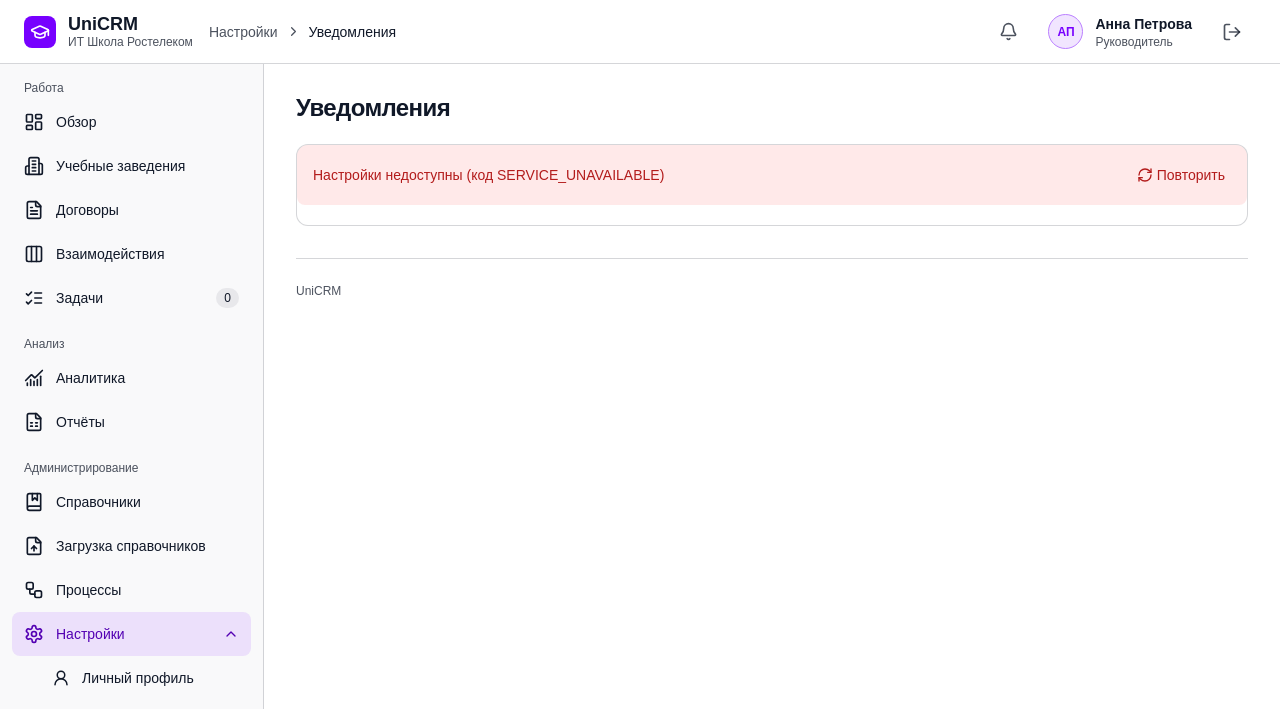
settings notifications › offers a retry when the preferences cannot be loaded, and recovers
The image size is (1280, 709).
Expected: the text "Настройки недоступны (код SERVICE_UNAVAILABLE) Повторить" is shown, [297,145,1247,205]
Click the button "Повторить".
click(1181, 175)  # box [1131,157,1231,193]
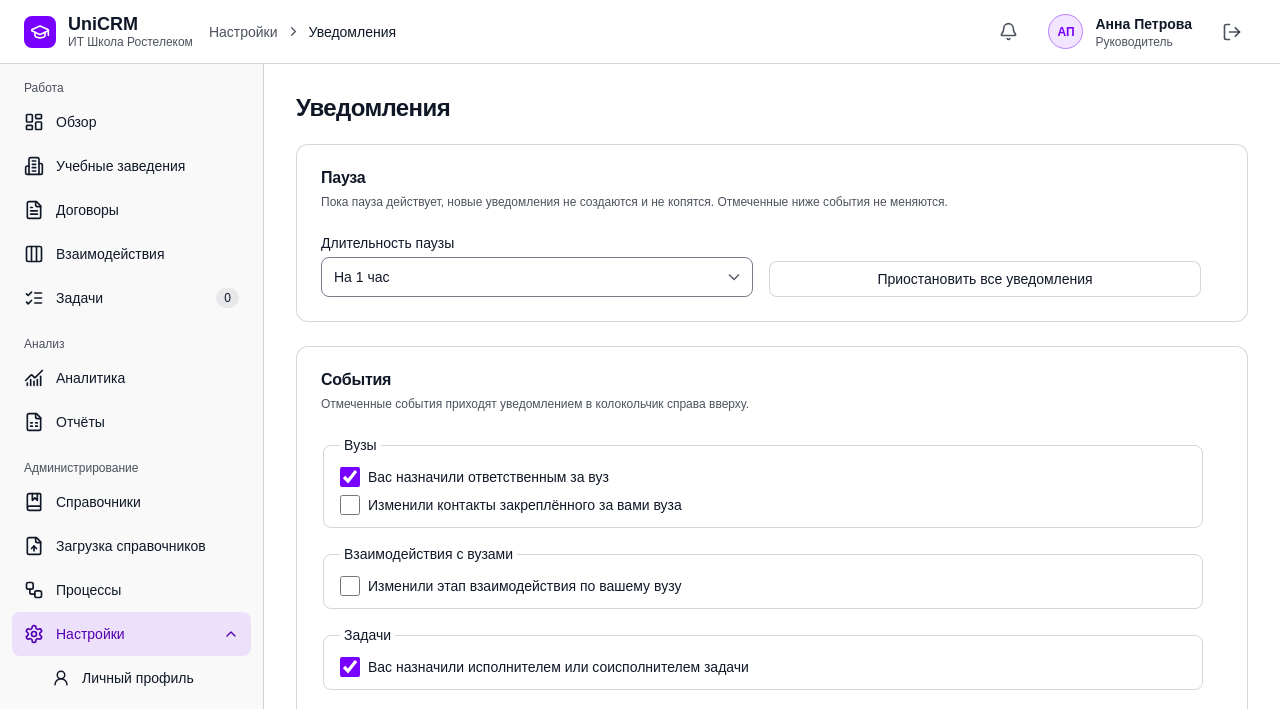
Result: the element "Пауза" is shown at [296,144,1248,322]
